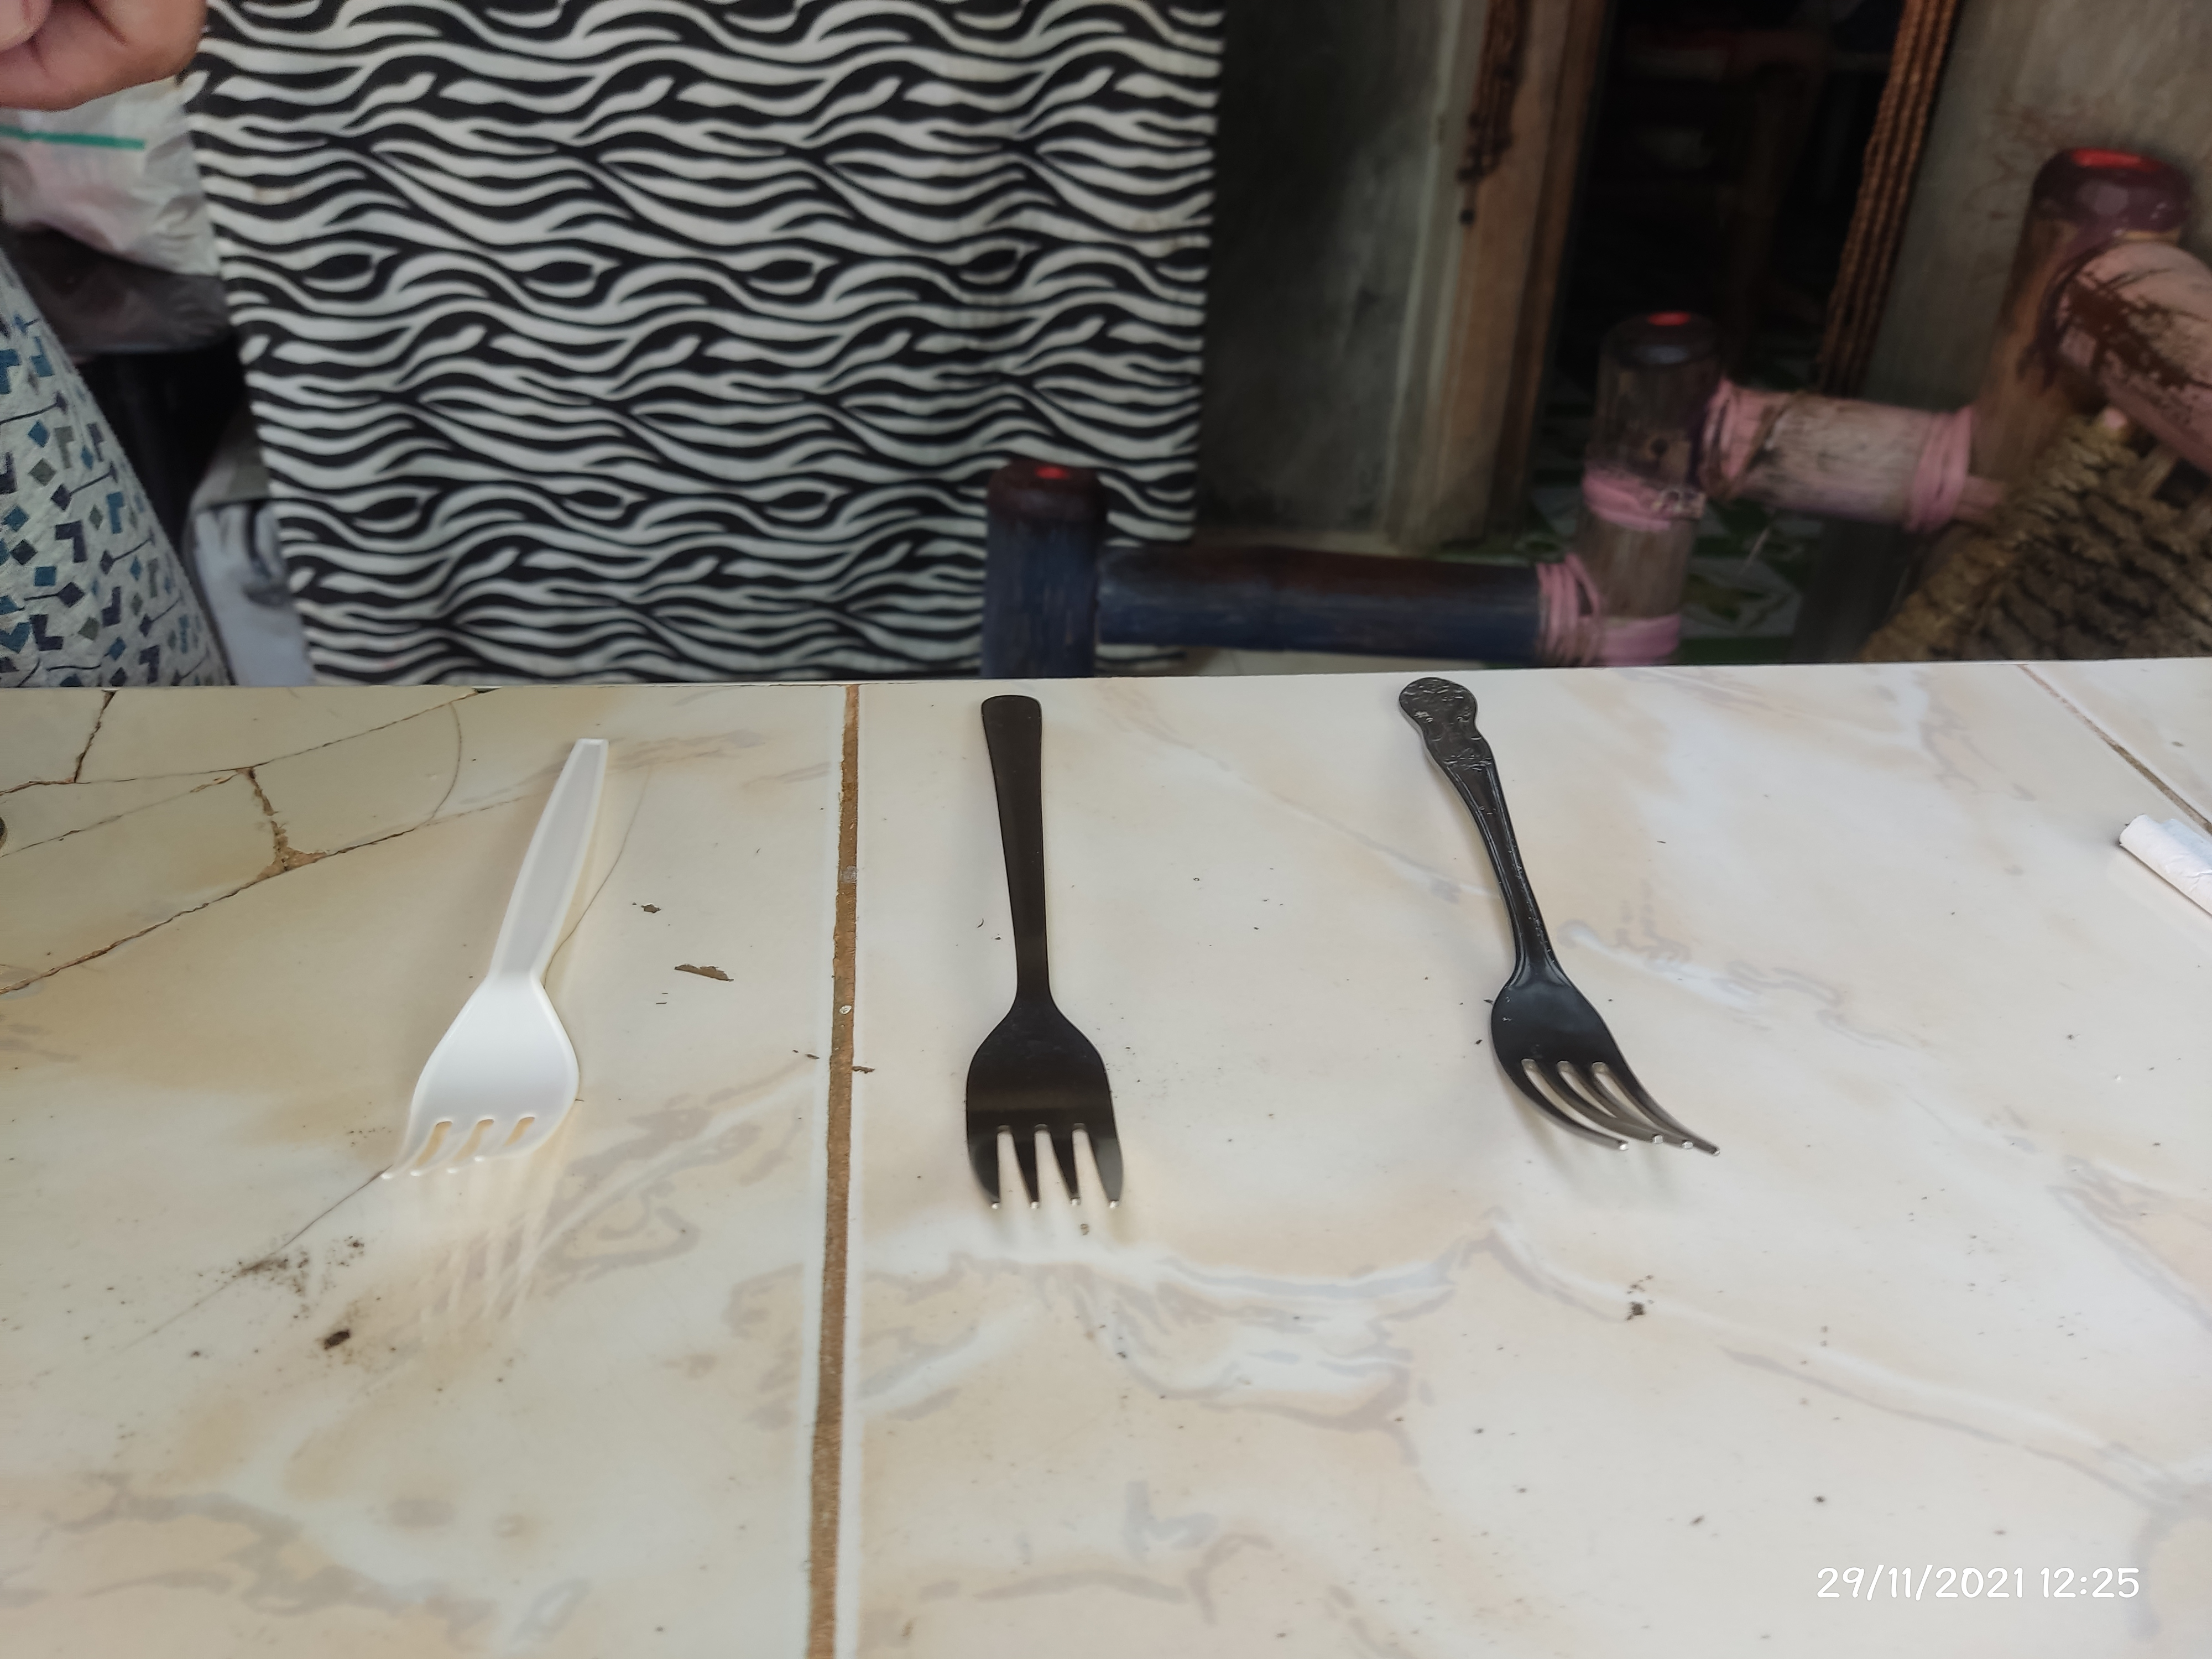fork: (1399, 673, 1714, 1161), (373, 735, 611, 1169), (967, 680, 1125, 1223)
